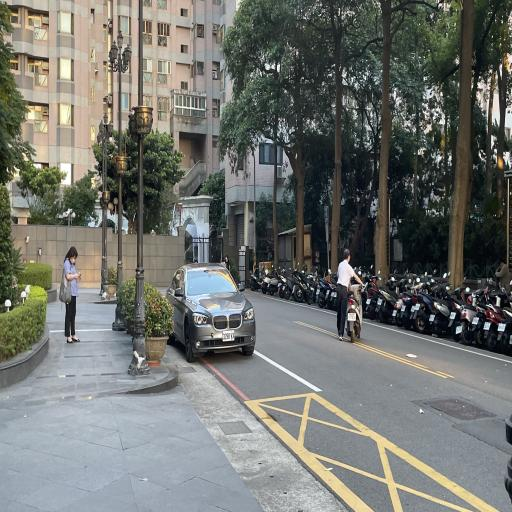MIU: (181, 328, 221, 380)
car: (156, 252, 262, 367)
redline: (195, 341, 249, 409)
